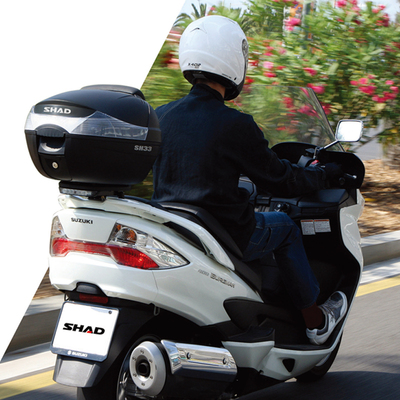电动车: (22, 78, 370, 399)
